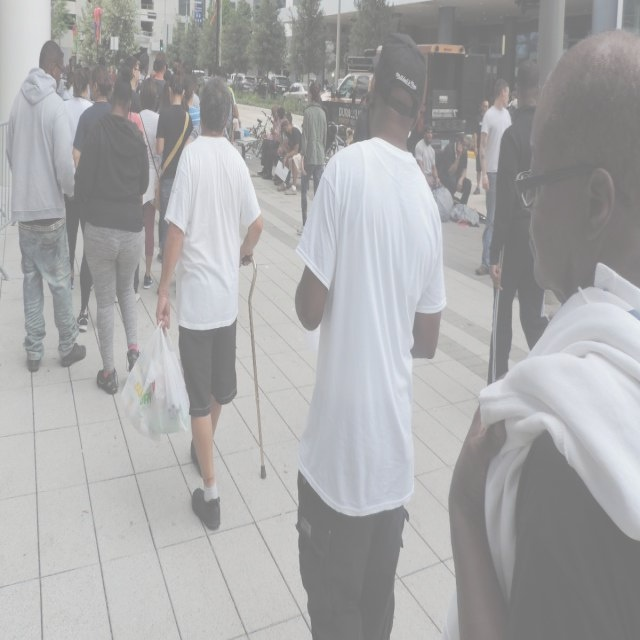pessoa: (446, 28, 640, 639), (284, 16, 453, 639), (114, 66, 265, 538), (2, 34, 82, 378), (70, 66, 152, 396), (53, 48, 244, 182), (487, 59, 550, 388), (70, 60, 115, 335), (58, 63, 96, 289), (153, 59, 194, 266), (474, 75, 512, 278), (137, 75, 163, 291), (295, 80, 328, 236), (439, 130, 472, 206), (414, 122, 444, 194), (260, 105, 288, 181), (276, 117, 302, 197), (264, 106, 292, 176), (472, 98, 489, 196), (353, 86, 376, 125), (502, 79, 524, 116), (260, 102, 279, 141), (156, 212, 162, 262)
